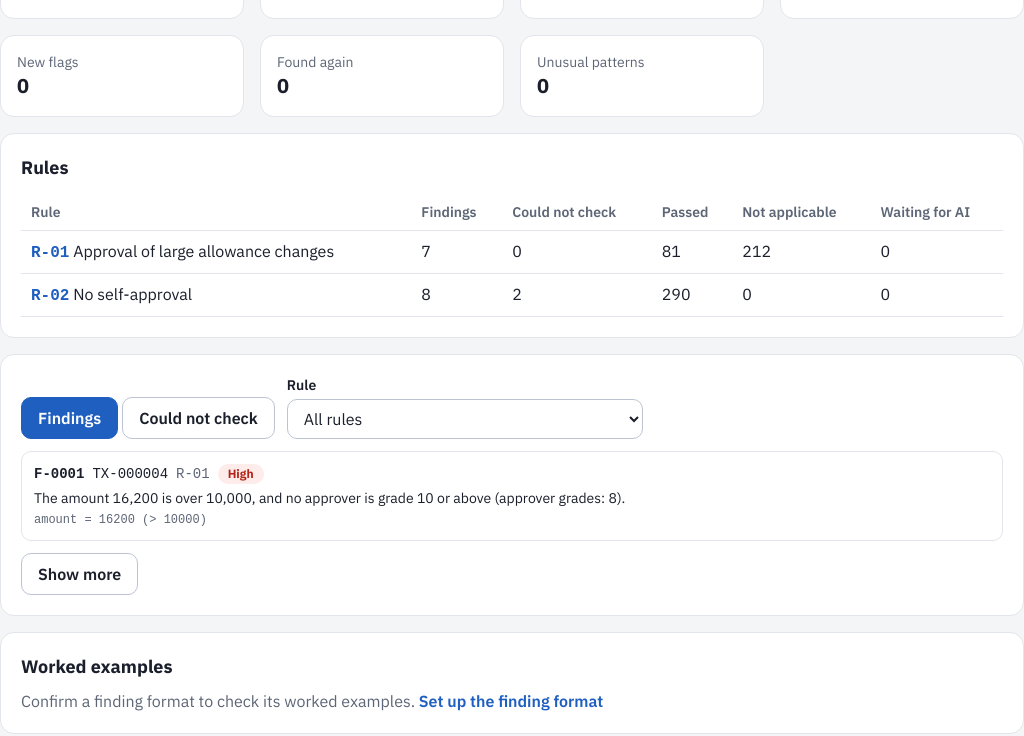
RunPage › lists findings with their explanation and evidence, then more
(page scrolled)
Expected: the list item with test id "run-result" shows "F-0001", x1=34 y1=466 x2=84 y2=482
Expected: the list item with test id "run-result" shows "TX-000004", x1=92 y1=466 x2=168 y2=482
Step 1. Click the button "Show more" → (80, 574), box x1=21 y1=553 x2=138 y2=595
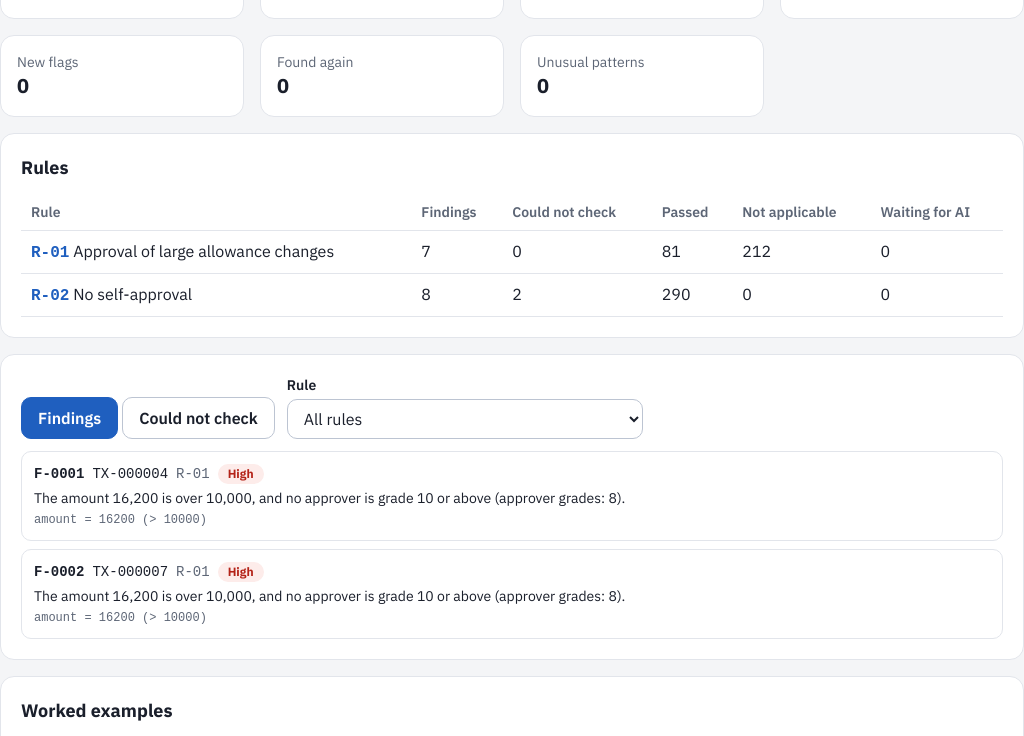
Result: the number of list items with test id "run-result" is 2 at x1=21 y1=451 x2=1003 y2=541; x1=21 y1=549 x2=1003 y2=639
Result: the button "Show more" is gone
